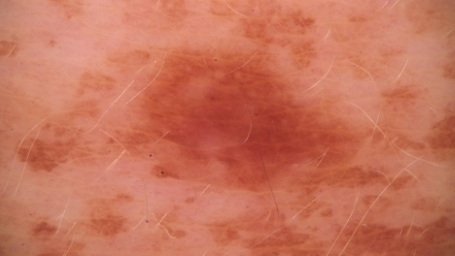nevus: (117, 54, 414, 195), (210, 207, 455, 255), (211, 1, 324, 73), (33, 204, 189, 242), (14, 123, 105, 170), (64, 66, 119, 117), (122, 1, 198, 32), (411, 111, 455, 150)
